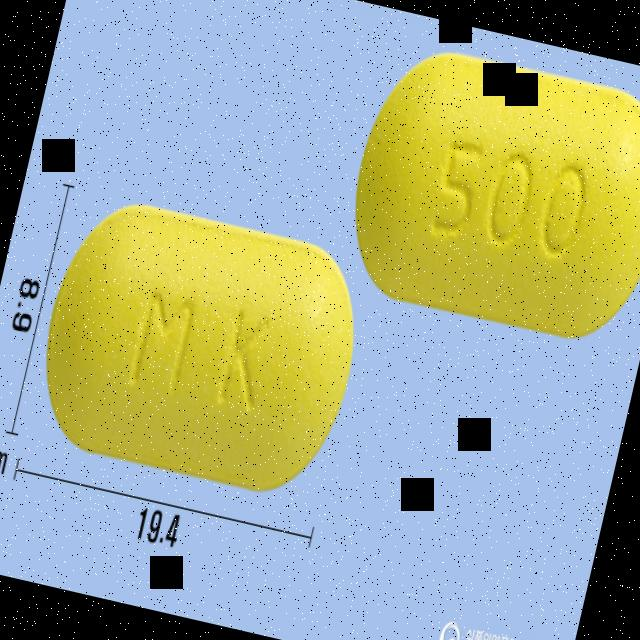Craycin: (23, 187, 377, 504), (334, 37, 640, 351)
